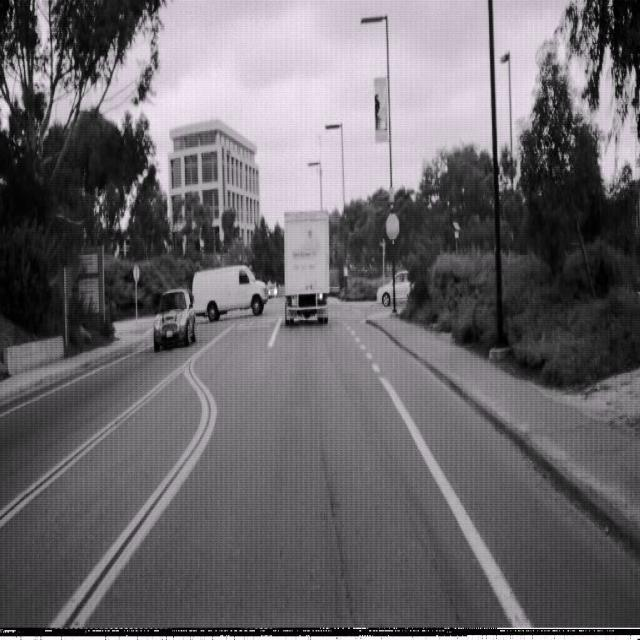stop_sign: (385, 212, 399, 242)
